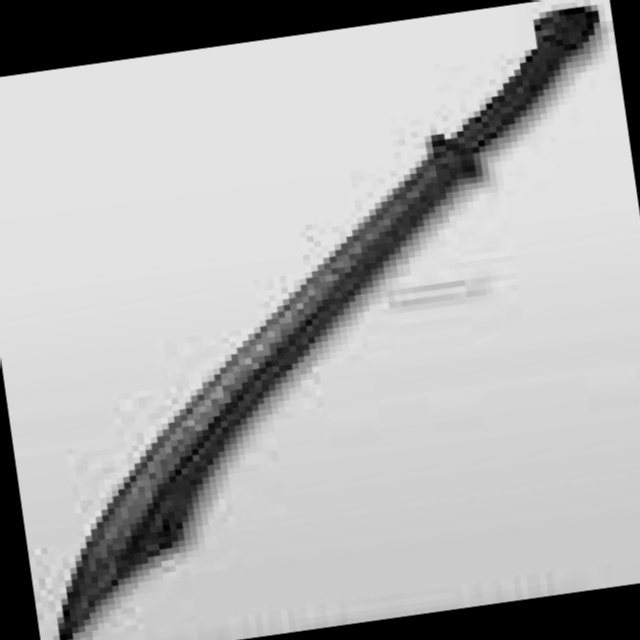Sharp-Object: (0, 12, 640, 640)
